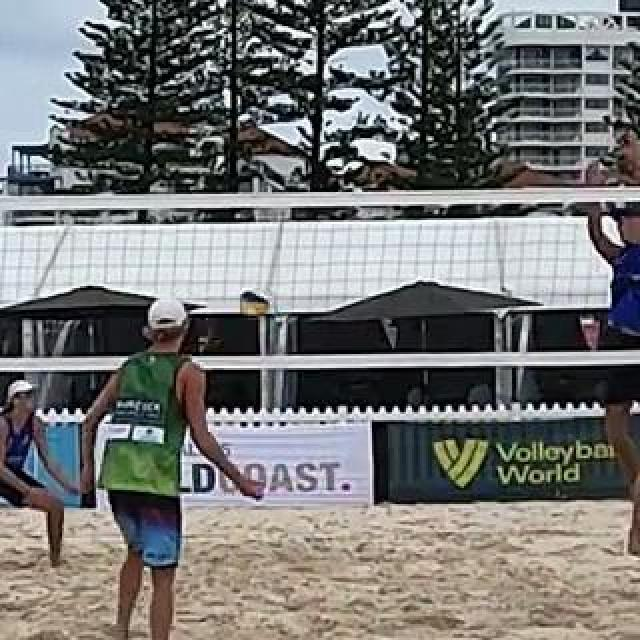volleyball: (242, 290, 274, 318)
